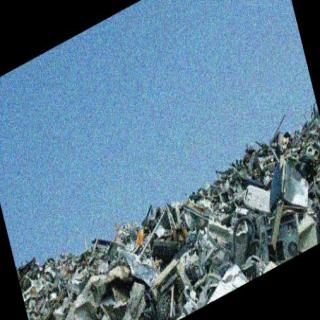METAL: (0, 114, 320, 318)
